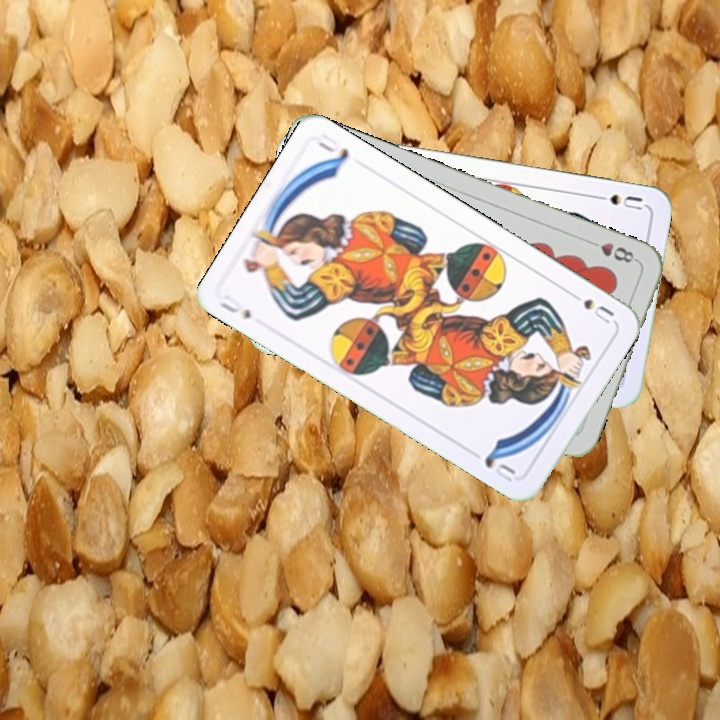H8: (583, 236, 640, 266)
SU: (564, 286, 617, 327), (588, 189, 645, 213), (216, 290, 254, 322)
